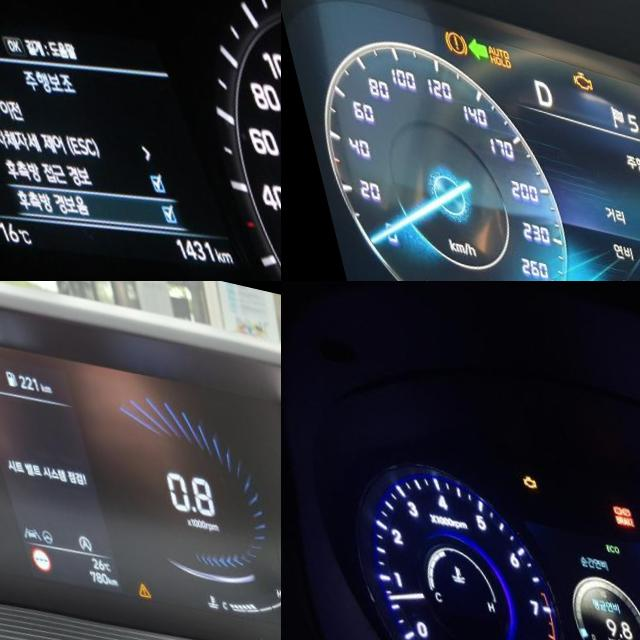Central Warning lamp: (118, 561, 134, 580)
LaneCenteringOff: (5, 511, 26, 528)
